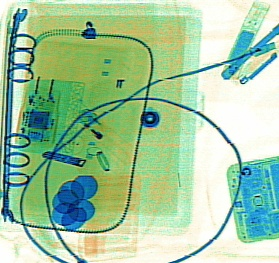lighter: (77, 107, 141, 165)
